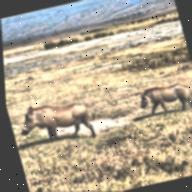boar: (5, 77, 104, 157), (124, 71, 192, 131)
